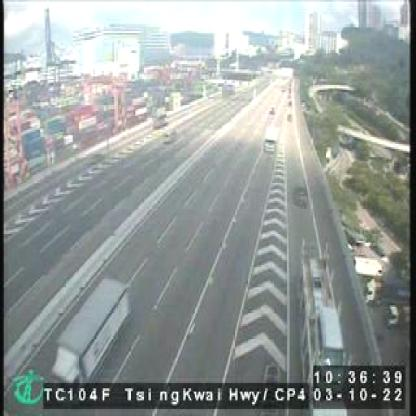Car: (268, 102, 275, 111)
Truck: (298, 243, 347, 414), (51, 281, 130, 383), (263, 126, 277, 152)
